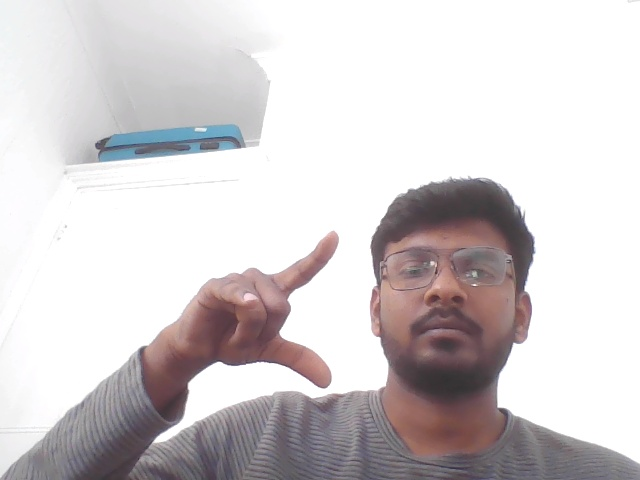ILoveYou: (131, 184, 355, 456)
